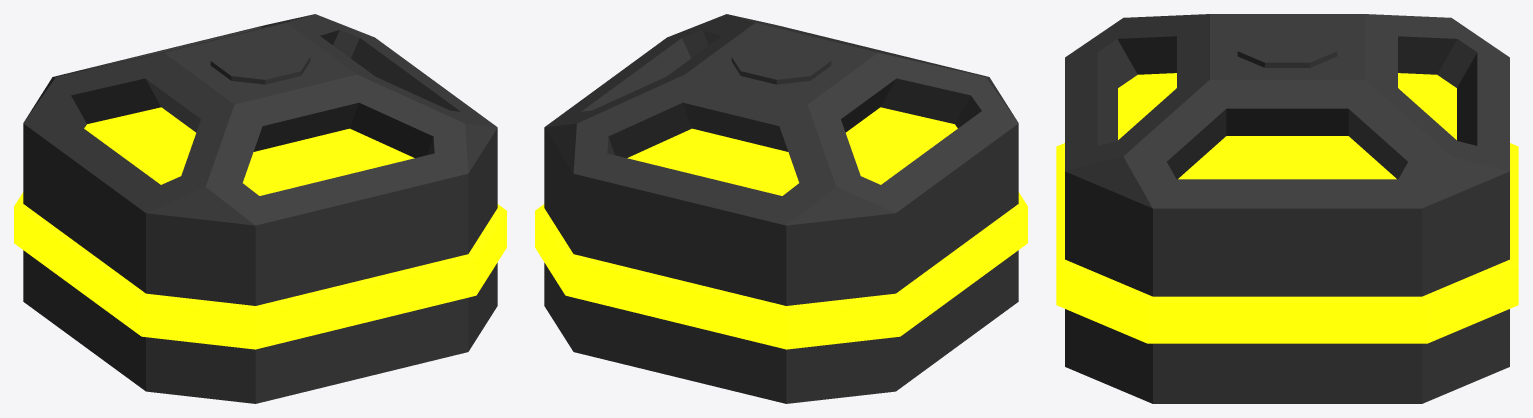
Rendered from Wall_1x1.fbx.
3 views of the same model, side by side, from view 1: azimuth 30°, elevation 25°; view 2: azimuth 150°, elevation 25°; view 3: azimuth 270°, elevation 25° (orthographic). The views are drawn at different scales.
Parts seen in each view (by area): view 1: Cube; view 2: Cube; view 3: Cube.
Part boxes in pixels (left/top/right/bottom): Cube: left=14, top=14, right=506, bottom=403; Cube: left=535, top=14, right=1027, bottom=403; Cube: left=1056, top=14, right=1518, bottom=403.
Bounding box in the file's own units: 208 × 133 × 208.
